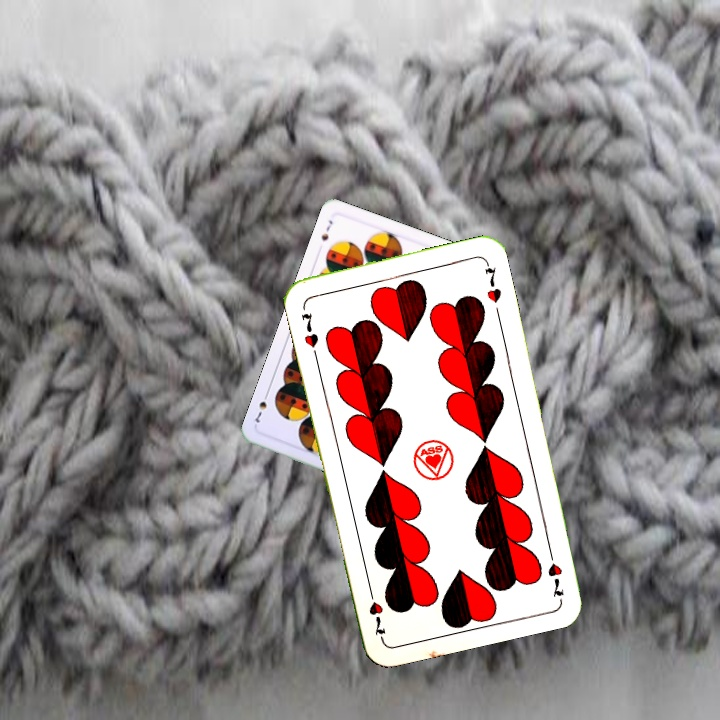H7: (544, 543, 567, 600), (297, 308, 321, 350)
S7: (317, 216, 335, 243)
